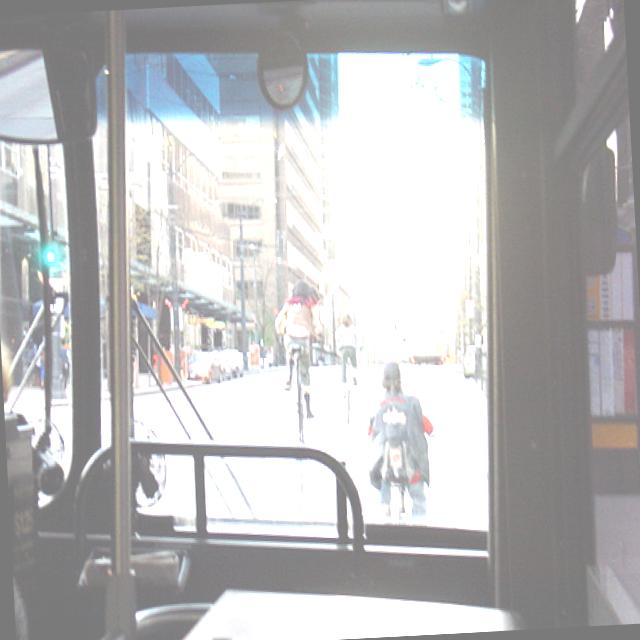Vehicle: (412, 321, 448, 368), (186, 350, 226, 385), (222, 348, 245, 378), (461, 344, 476, 380), (218, 352, 236, 379)
